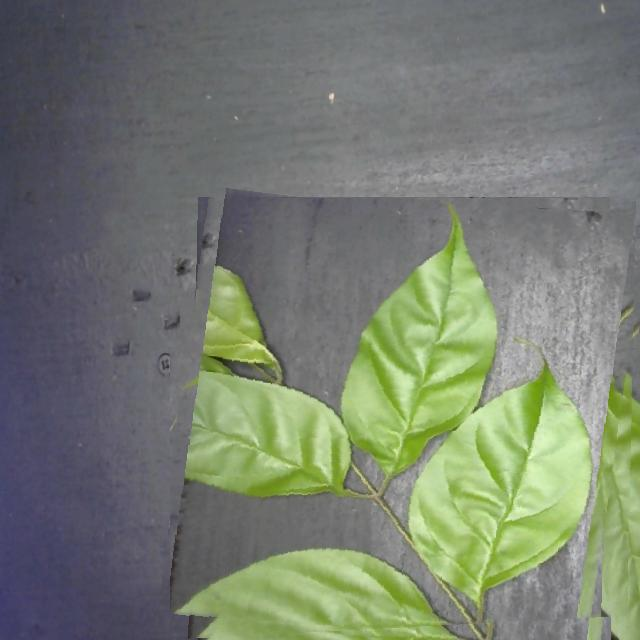biodegradable: (170, 198, 637, 640)
